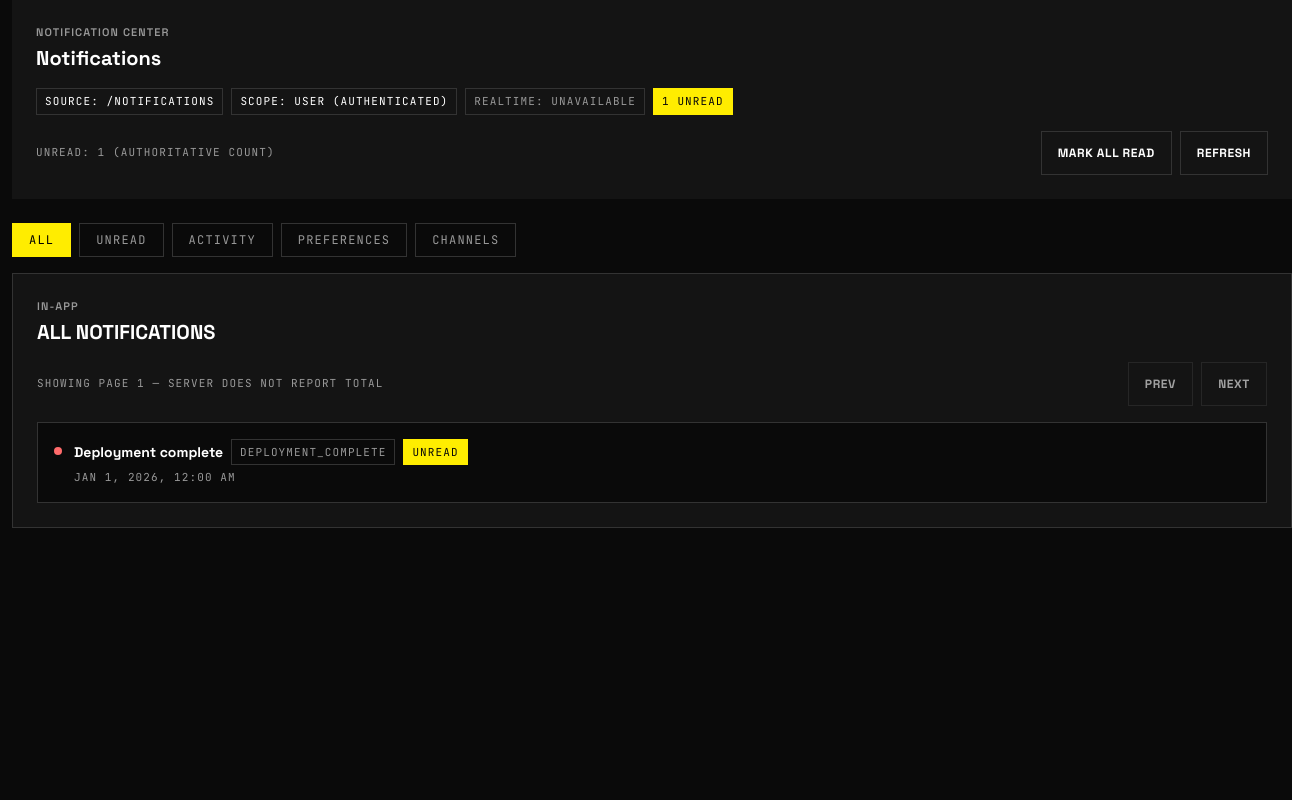
Test case: Notification Center — read-only (C1) › renders the preferences matrix from the backend
Expected: the text "Deployment complete" is shown, [74,442,223,462]
Click the tab "PREFERENCES": (344, 240) [281,222,407,256]
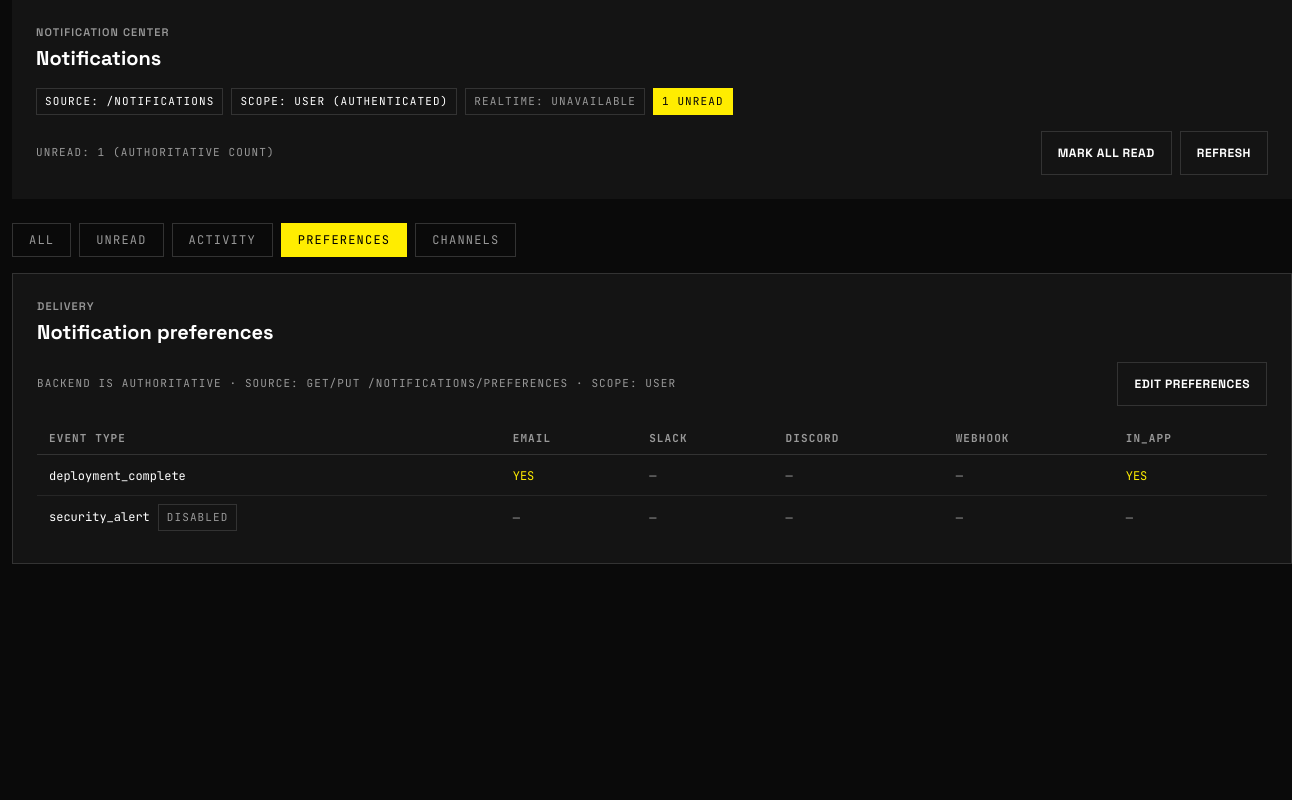
Result: the text "security_alert" is shown at [49,509,150,525]
Result: the text "DISABLED" is shown at [158,504,237,530]
Result: the 1st text "YES" is shown at [513,468,534,484]
